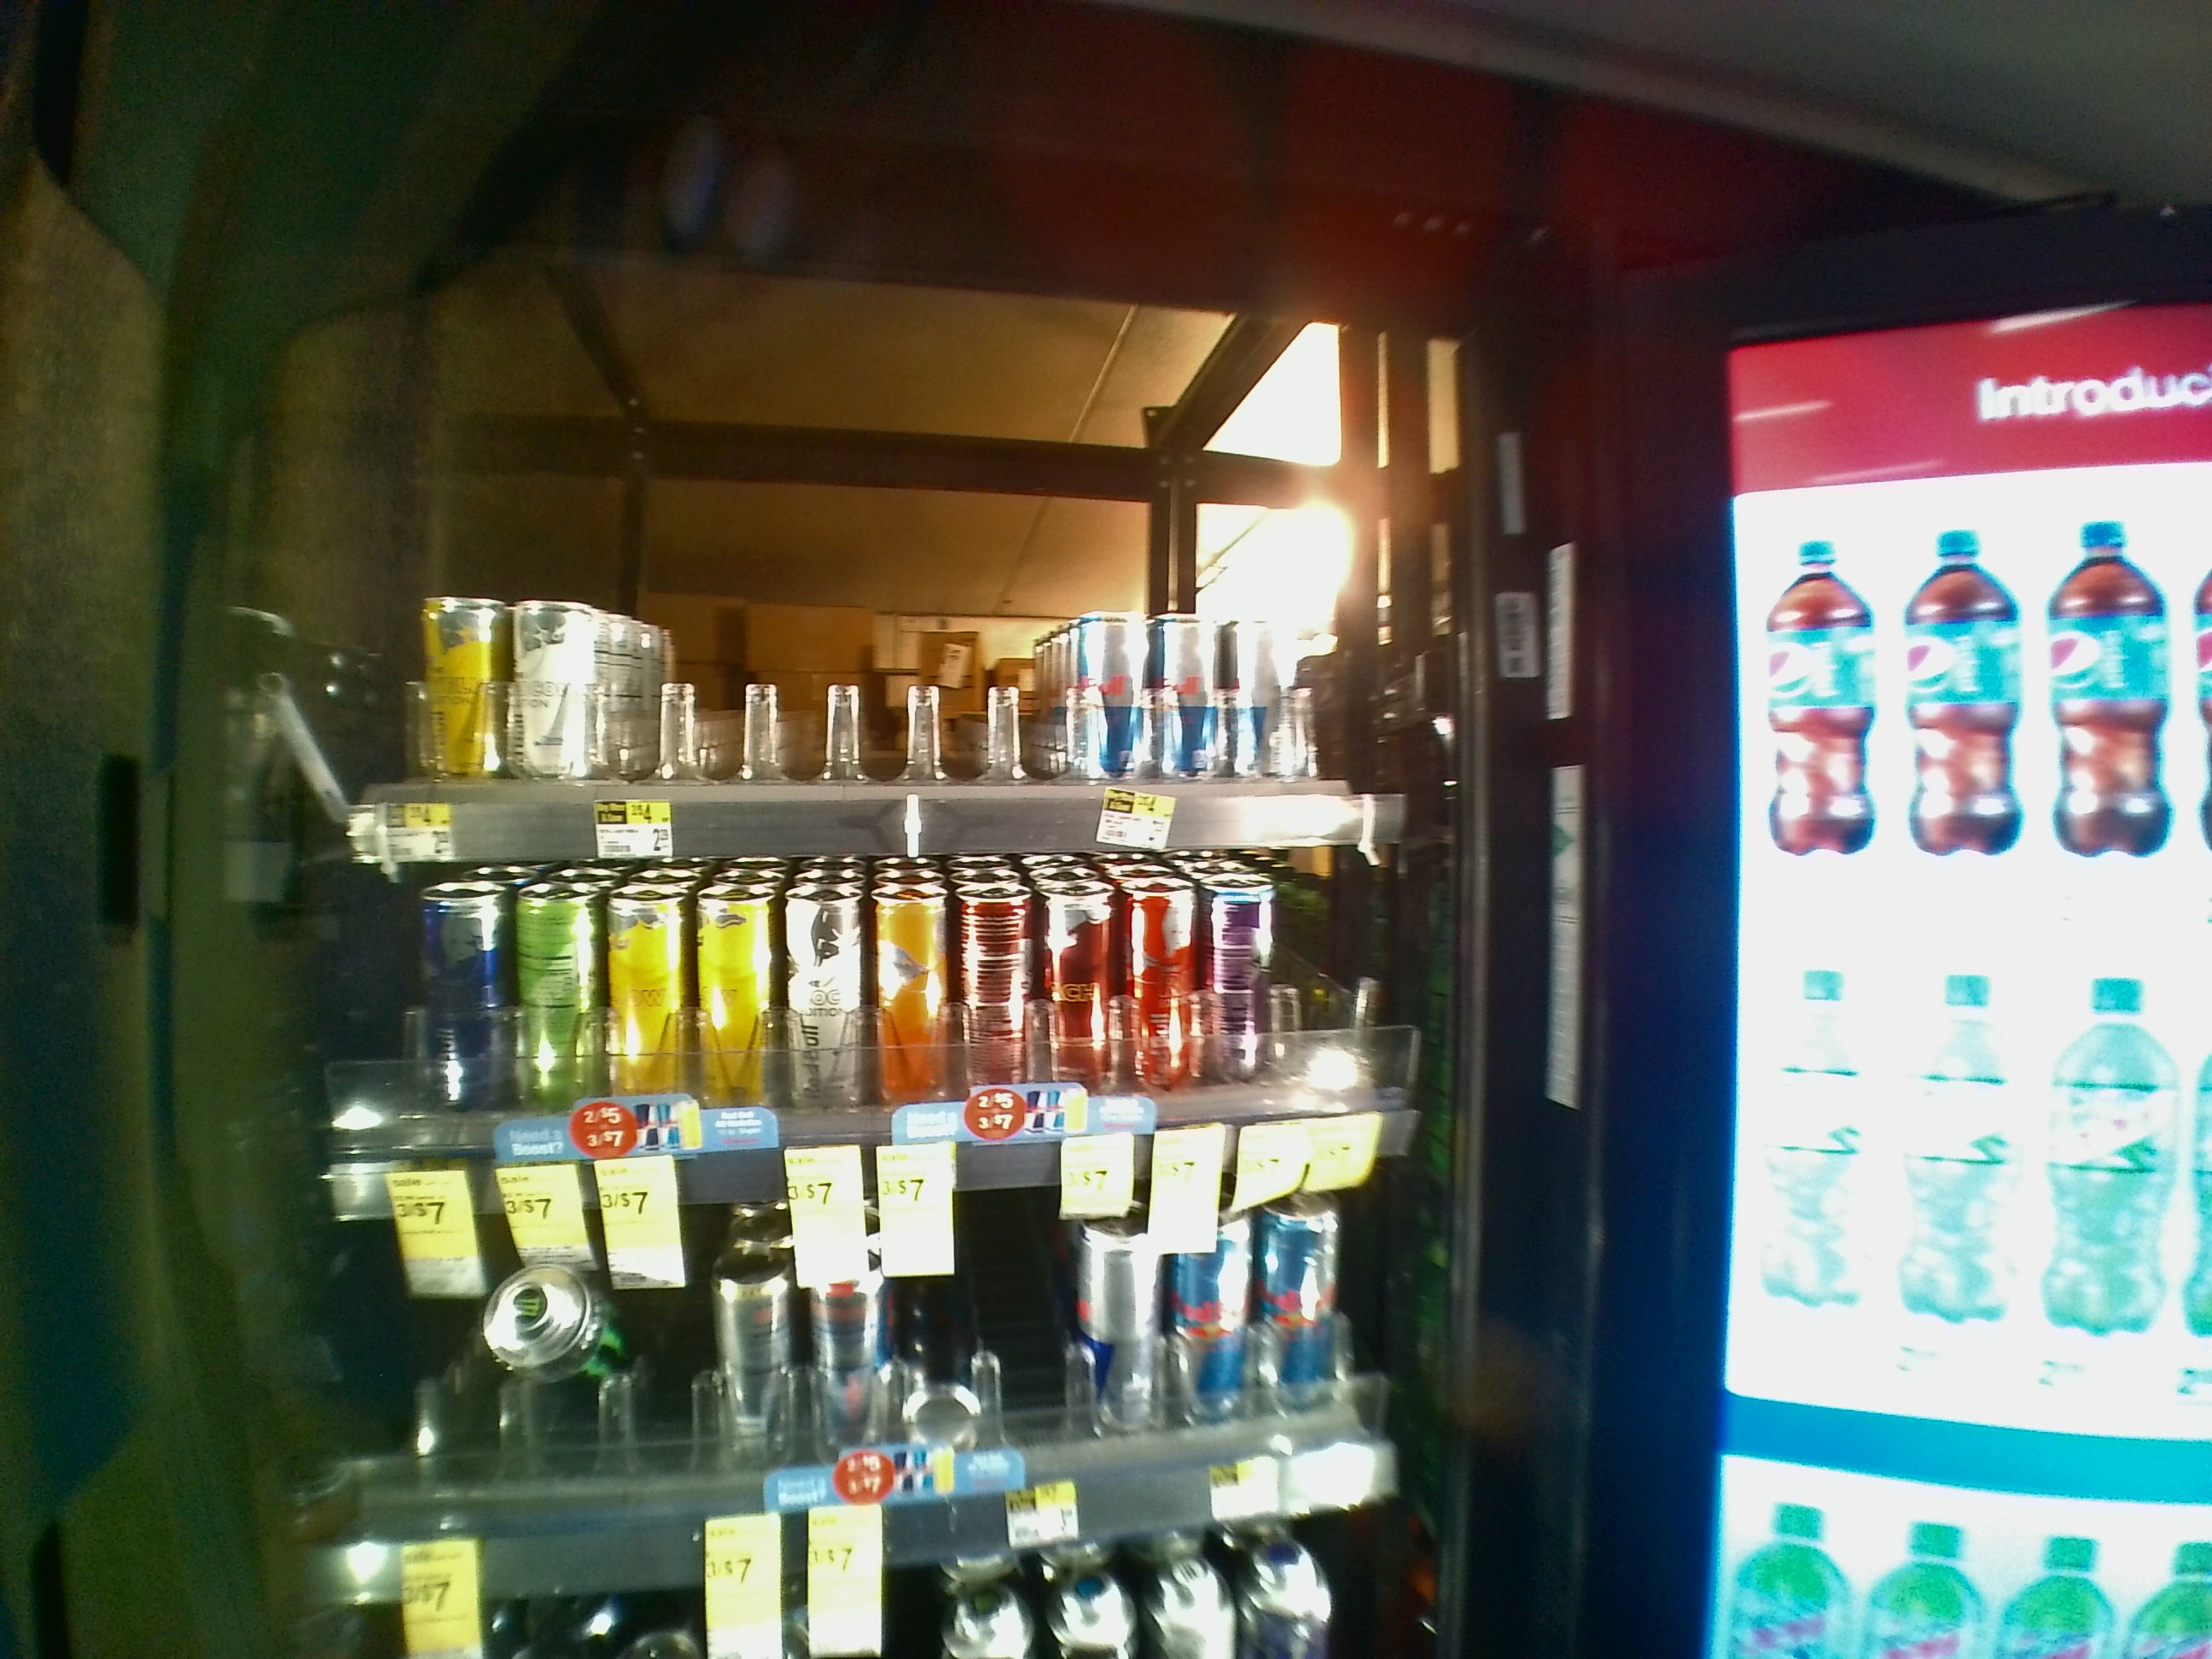shelf: (293, 270, 1456, 852), (280, 854, 1458, 1208)
